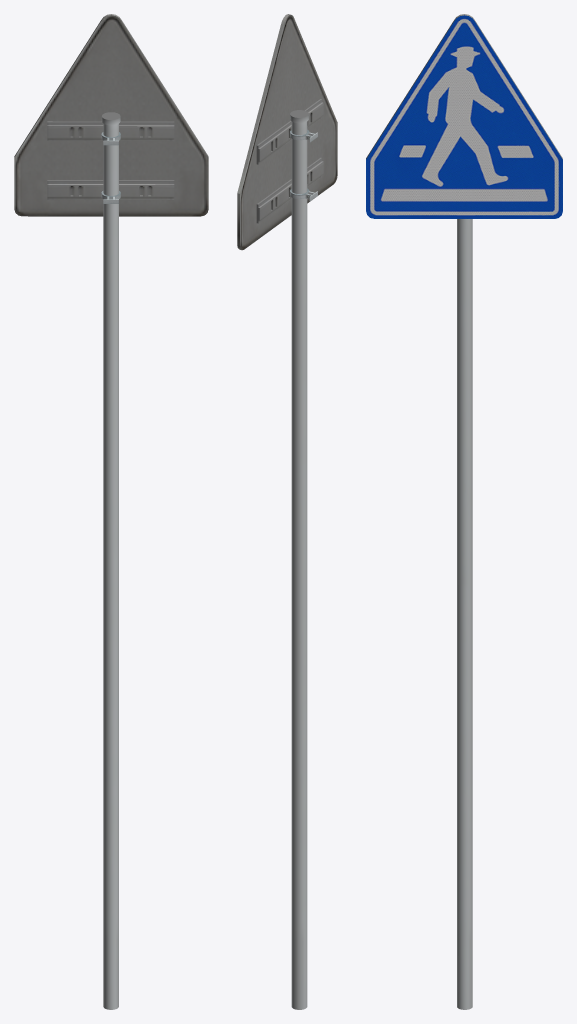
The model's file is Preset_Sign407A.fbx.
The picture shows the model from 3 angles, left to right: view 1: azimuth 90°, elevation 25°; view 2: azimuth 150°, elevation 25°; view 3: azimuth 270°, elevation 25°; orthographic projection.
Visible parts, largest first — view 1: Sign_Backface, Sign_PoleV, Sign_BackArm; view 2: Sign_PoleV, Sign_Backface, Sign_BackArm; view 3: Sign_407A, Sign_PoleV, Sign_Backface.
Boxes of the visible parts, x1=… form: Sign_Backface: x1=14, y1=14, x2=208, y2=216; Sign_PoleV: x1=101, y1=112, x2=120, y2=1009; Sign_BackArm: x1=47, y1=121, x2=174, y2=203; Sign_PoleV: x1=290, y1=110, x2=308, y2=1009; Sign_Backface: x1=237, y1=14, x2=337, y2=250; Sign_BackArm: x1=256, y1=99, x2=323, y2=223; Sign_407A: x1=366, y1=15, x2=562, y2=218; Sign_PoleV: x1=457, y1=219, x2=472, y2=1009; Sign_Backface: x1=366, y1=14, x2=562, y2=159.
Size of the model in its own units: 10.06 by 60.01 by 336.
4 materials, 4 textured.
